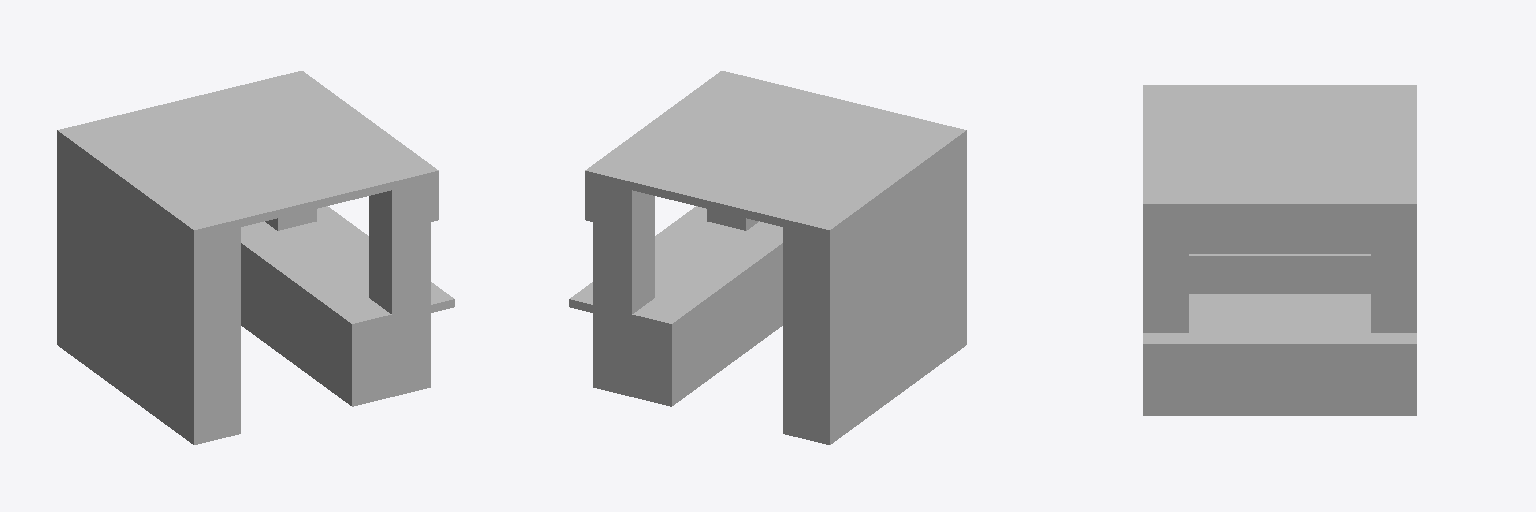
The model's file is MarketStall2.obj.
3 views of the same model, side by side, from view 1: azimuth 30°, elevation 25°; view 2: azimuth 150°, elevation 25°; view 3: azimuth 270°, elevation 25° (orthographic).
Bounding box in the file's own units: 33 × 26 × 30.